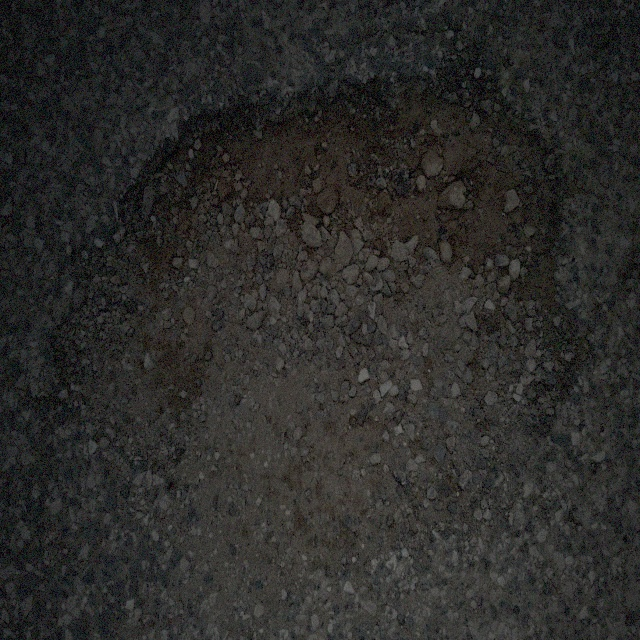pothole: (51, 57, 585, 547)
